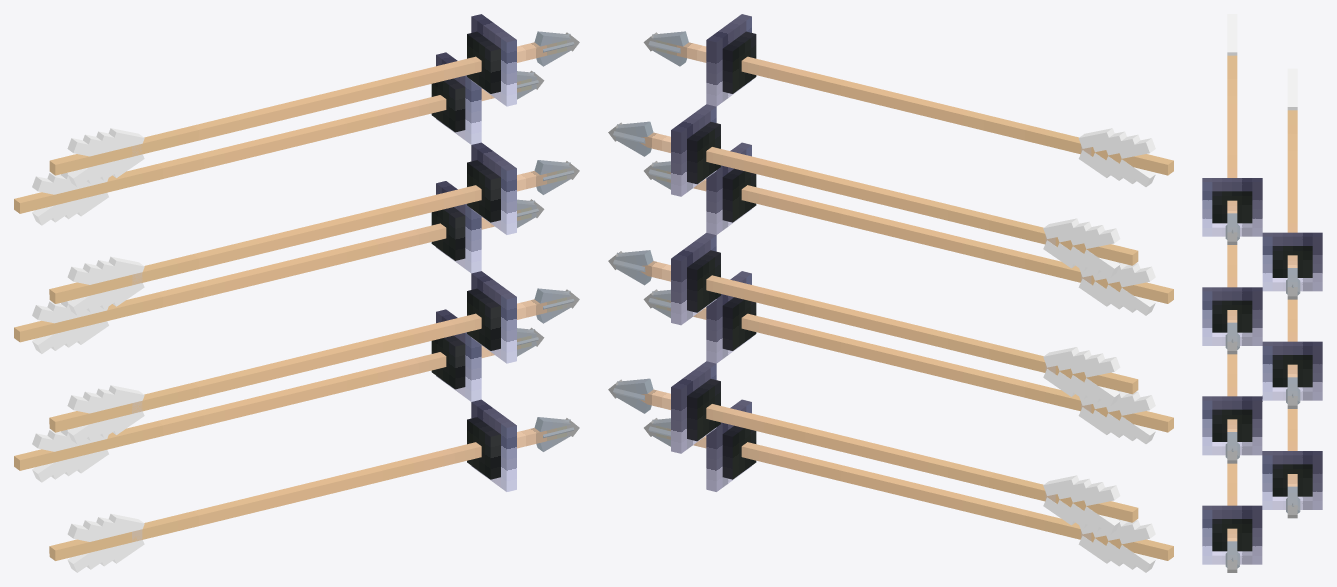
The model's file is trap-3_2.glb.
3 views of the same model, side by side, from view 1: azimuth 30°, elevation 25°; view 2: azimuth 150°, elevation 25°; view 3: azimuth 270°, elevation 25° (orthographic). The views are drawn at different scales.
Visible parts, largest first — view 1: 2$$(1)-Local; view 2: 2$$(1)-Local; view 3: 2$$(1)-Local.
Part boxes in pixels (x1,y1,x2,y2): 2$$(1)-Local: (14, 14, 579, 572); 2$$(1)-Local: (608, 14, 1173, 572); 2$$(1)-Local: (1202, 14, 1322, 572).
Size of the model in its own units: 4.27 by 3.5 by 1.
Materials: 6 (6 with a texture image).
